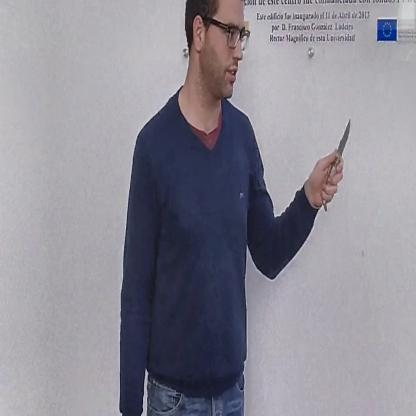knife: (317, 108, 354, 218)
